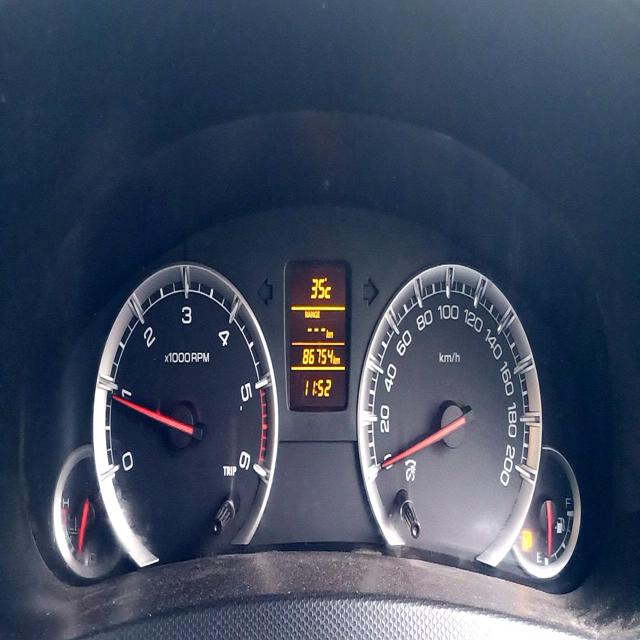odometer: (301, 344, 334, 366)
